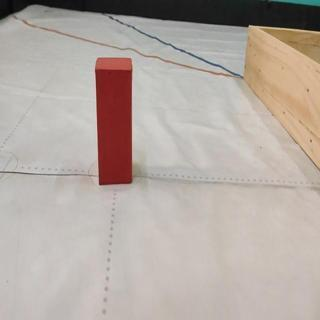redbox: (95, 57, 131, 186)
